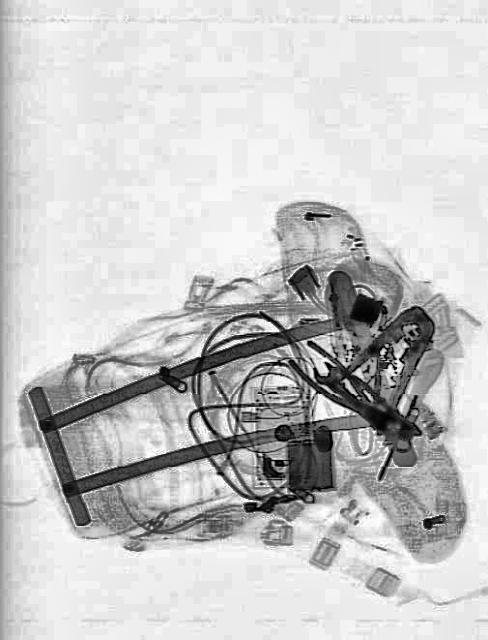Pliers: (284, 331, 429, 459), (330, 289, 450, 433)
Wrench: (308, 352, 394, 434)
